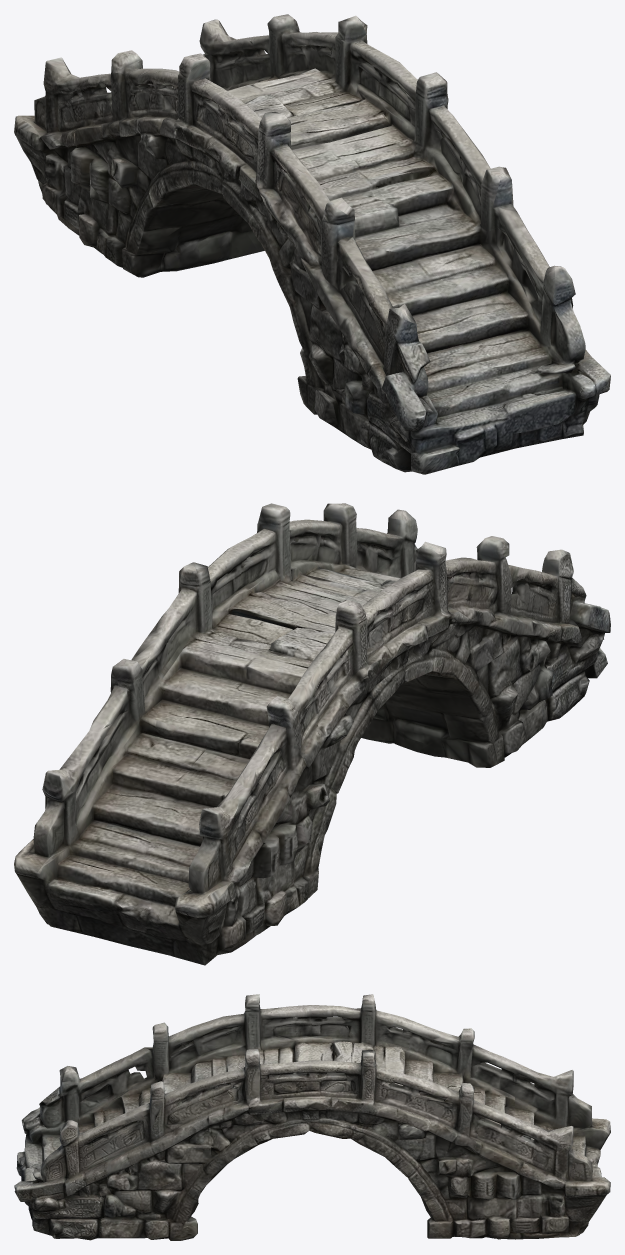
File: bridge-mid.glb
3 views of the same model, one above another, from view 1: azimuth 30°, elevation 25°; view 2: azimuth 150°, elevation 25°; view 3: azimuth 270°, elevation 25° (orthographic). The views are drawn at different scales.
Bounding box in the file's own units: 0.3 × 0.341 × 0.9982.
Materials: 1 (1 with a texture image).
